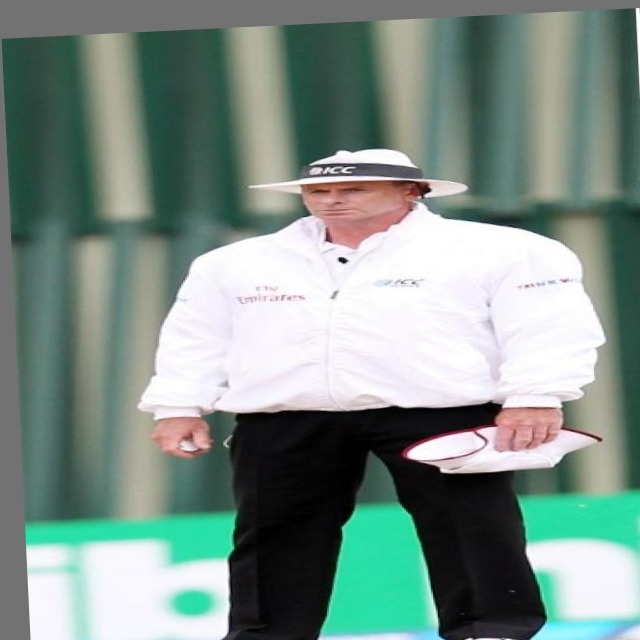No_Action: (127, 128, 629, 640)
